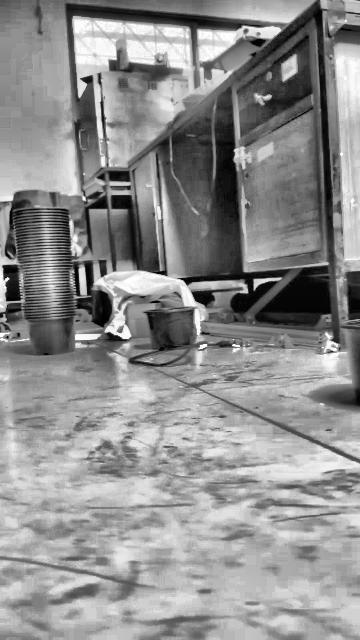pot: (23, 308, 75, 355), (144, 306, 195, 349), (342, 319, 359, 403)
